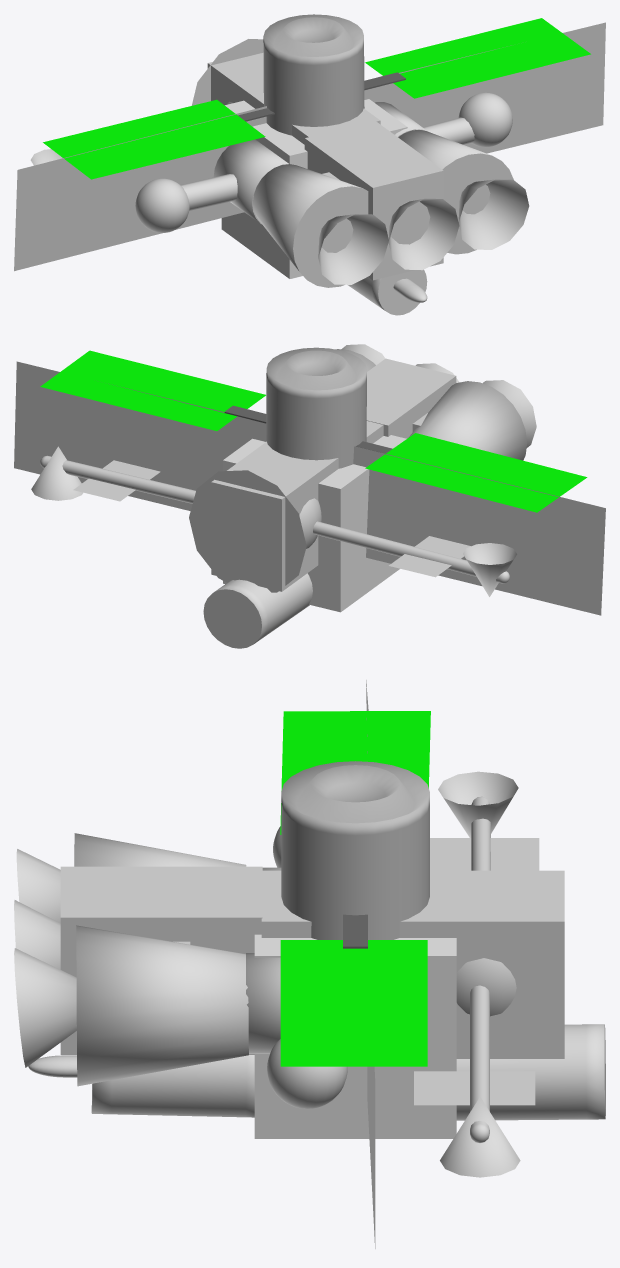
File: satellite_source.dae
3 views of the same model, one above another, from view 1: azimuth 30°, elevation 25°; view 2: azimuth 150°, elevation 25°; view 3: azimuth 270°, elevation 25° (orthographic). The views are drawn at different scales.
Parts seen in each view (by area): view 1: Plane.001, Plane1.001, Cylinder, Box4, Plane, Plane1, Cylinder2.001, Cylinder3.001, Cube.001, Cone5, Cone4, Box.001 (+10 smaller); view 2: Plane.001, Plane1.001, Box.001, Cylinder, Plane1, Plane, Cube.001, Cylinder2.001, Cylinder1, Box4, Circle, Capsule1 (+8 smaller); view 3: Cylinder, Cylinder3.001, Box.001, Plane1, Box4, Cube.001, Plane, Cylinder2, Cylinder1, Cone5, Plane3, Cone1 (+13 smaller).
Part boxes in pixels (bbox=[...]): Plane.001: bbox=[14, 106, 266, 271]; Plane1.001: bbox=[364, 22, 605, 153]; Cylinder: bbox=[263, 14, 364, 135]; Box4: bbox=[304, 121, 443, 280]; Plane: bbox=[43, 99, 265, 179]; Plane1: bbox=[365, 18, 590, 98]; Cylinder2.001: bbox=[253, 164, 368, 287]; Cylinder3.001: bbox=[398, 129, 513, 254]; Cube.001: bbox=[221, 99, 407, 278]; Cone5: bbox=[458, 179, 529, 249]; Cone4: bbox=[318, 214, 388, 284]; Box.001: bbox=[207, 52, 380, 144]; Plane.001: bbox=[353, 446, 605, 615]; Plane1.001: bbox=[14, 361, 265, 510]; Box.001: bbox=[211, 421, 383, 591]; Cylinder: bbox=[266, 347, 366, 468]; Plane1: bbox=[40, 350, 265, 430]; Plane: bbox=[365, 433, 587, 512]; Cube.001: bbox=[223, 435, 406, 612]; Cylinder2.001: bbox=[408, 381, 527, 460]; Cylinder1: bbox=[203, 573, 312, 648]; Box4: bbox=[366, 358, 456, 438]; Circle: bbox=[189, 470, 306, 592]; Capsule1: bbox=[313, 521, 509, 583]; Cylinder: bbox=[281, 761, 429, 939]; Cylinder3.001: bbox=[76, 925, 248, 1086]; Box.001: bbox=[261, 870, 564, 1058]; Plane1: bbox=[280, 940, 427, 1066]; Box4: bbox=[60, 866, 262, 1054]; Cube.001: bbox=[254, 934, 456, 1138]; Plane: bbox=[280, 711, 430, 834]; Cylinder2: bbox=[91, 1055, 254, 1117]; Cylinder1: bbox=[456, 1024, 605, 1120]; Cone5: bbox=[14, 948, 76, 1067]; Plane3: bbox=[414, 1071, 535, 1105]; Cone1: bbox=[440, 1097, 520, 1177].
Bounding box in the file's own units: 9.99 × 5.86 × 3.64.
